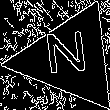N_S: (44, 31, 94, 86)
